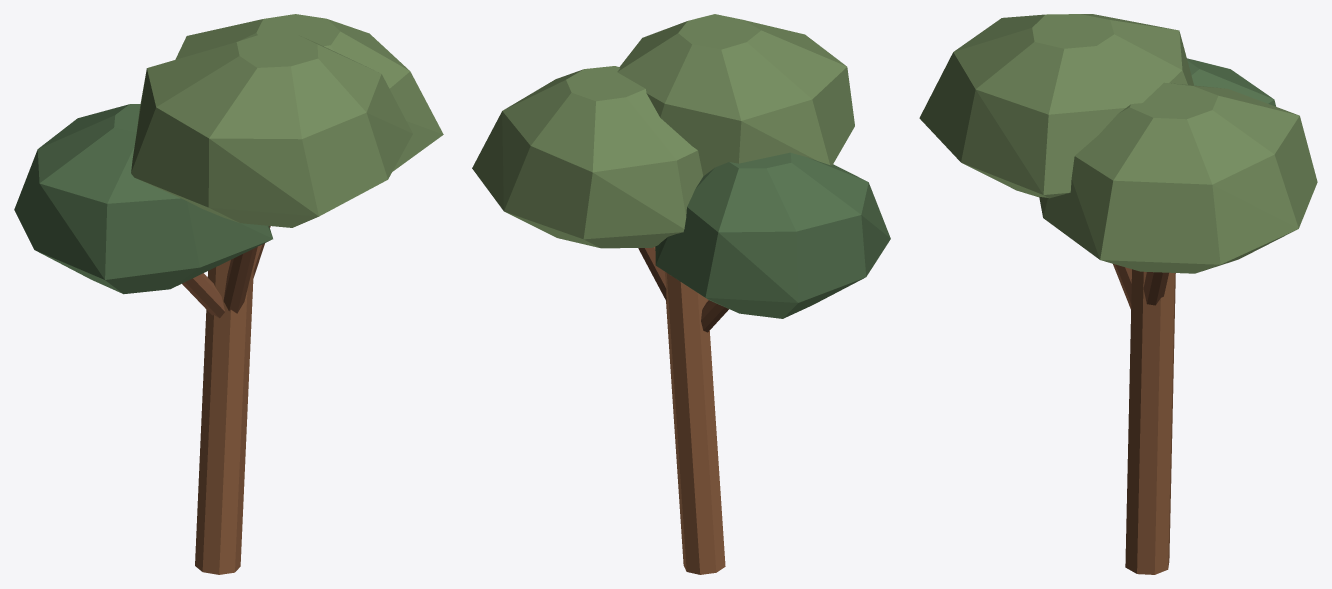
The model's file is tree_pine.glb.
The picture shows the model from 3 angles, left to right: view 1: azimuth 30°, elevation 25°; view 2: azimuth 150°, elevation 25°; view 3: azimuth 270°, elevation 25°; orthographic projection. The views are drawn at different scales.
Parts seen in each view (by area): view 1: tree_pine; view 2: tree_pine; view 3: tree_pine.
Part boxes in pixels (x1,y1,x2,y2): tree_pine: [14, 14, 443, 574]; tree_pine: [472, 14, 890, 574]; tree_pine: [919, 14, 1317, 574].
Bounding box in the file's own units: 2.07 × 2.73 × 1.8.
